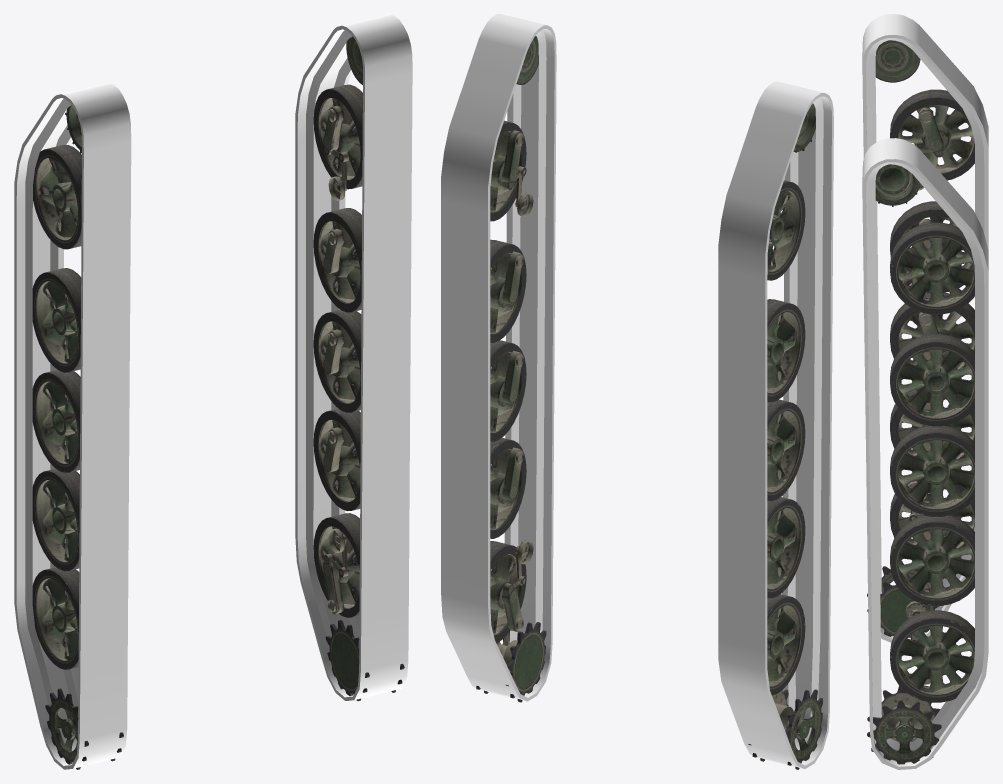
File: Chassis.glb
3 renders of one model, left to right at view 1: azimuth 30°, elevation 25°; view 2: azimuth 150°, elevation 25°; view 3: azimuth 270°, elevation 25°, orthographic. The views are drawn at different scales.
Parts seen in each view (by area): view 1: set_0_group_0, set_1_group_0, set_3_group_0, set_2_group_0; view 2: set_1_group_0, set_0_group_0, set_3_group_0, set_2_group_0; view 3: set_3_group_0, set_0_group_0, set_2_group_0, set_1_group_0.
Boxes of the visible parts, x1=… form: set_0_group_0: x1=295, y1=14, x2=412, y2=700; set_1_group_0: x1=14, y1=82, x2=131, y2=769; set_3_group_0: x1=313, y1=36, x2=404, y2=701; set_2_group_0: x1=32, y1=105, x2=123, y2=769; set_1_group_0: x1=718, y1=81, x2=833, y2=769; set_0_group_0: x1=441, y1=14, x2=556, y2=701; set_3_group_0: x1=476, y1=36, x2=546, y2=702; set_2_group_0: x1=748, y1=103, x2=822, y2=769; set_3_group_0: x1=867, y1=164, x2=974, y2=764; set_0_group_0: x1=862, y1=138, x2=988, y2=769; set_2_group_0: x1=867, y1=40, x2=974, y2=637; set_1_group_0: x1=862, y1=14, x2=988, y2=642.
Bounding box in the file's own units: 2.81 × 5.52 × 1.03.
Materials: 4 (2 with a texture image).
